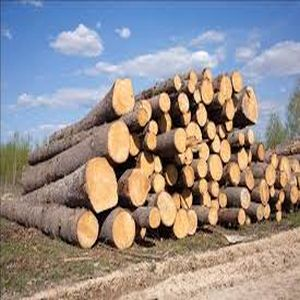log: (80, 155, 122, 213), (110, 208, 137, 252), (104, 120, 131, 164), (110, 76, 136, 116), (74, 211, 101, 248), (238, 86, 262, 127), (126, 168, 151, 205), (155, 190, 178, 230), (169, 209, 190, 241), (133, 152, 160, 176), (215, 73, 237, 99), (135, 98, 154, 128), (171, 127, 189, 156), (207, 153, 224, 183), (199, 79, 217, 107), (143, 207, 164, 230), (218, 139, 235, 167), (185, 121, 204, 146), (184, 207, 199, 238), (125, 131, 142, 158), (174, 91, 192, 116), (178, 188, 196, 212), (226, 161, 244, 185), (156, 112, 174, 136), (175, 146, 194, 168), (263, 163, 279, 189), (254, 139, 270, 165), (193, 102, 209, 128), (164, 164, 181, 188), (242, 169, 259, 193), (230, 70, 245, 97), (180, 164, 196, 189), (156, 92, 174, 114), (236, 147, 251, 173), (205, 205, 221, 229), (143, 132, 161, 152), (222, 99, 237, 122), (234, 205, 247, 230), (171, 72, 185, 95), (238, 187, 252, 209), (151, 173, 165, 195), (195, 158, 209, 180), (277, 170, 291, 192), (209, 135, 223, 155), (197, 142, 212, 160), (268, 150, 281, 170), (205, 122, 218, 141), (289, 183, 300, 205), (146, 119, 161, 135), (217, 191, 231, 208), (191, 87, 203, 106), (214, 91, 228, 107), (197, 178, 209, 196), (262, 202, 273, 221), (209, 181, 221, 198), (245, 129, 257, 146), (180, 111, 192, 128), (255, 203, 265, 223), (217, 123, 228, 141), (224, 119, 236, 135), (201, 192, 213, 206), (186, 79, 197, 94), (273, 210, 285, 222), (274, 200, 285, 213), (277, 190, 287, 204), (244, 215, 252, 226)
